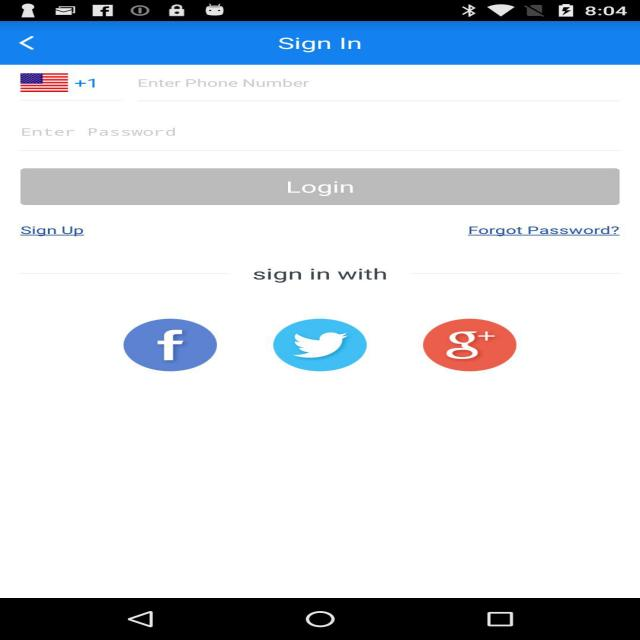button: (31, 164, 627, 210)
icon: (99, 298, 557, 383), (14, 67, 118, 105)
text: (127, 31, 410, 96), (215, 262, 446, 285)
